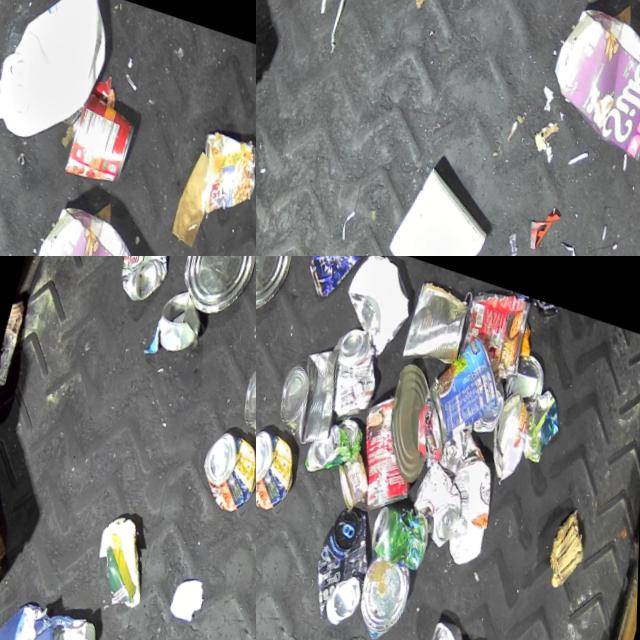can: (416, 311, 512, 448), (345, 378, 433, 513), (305, 494, 384, 625), (271, 326, 353, 446), (374, 349, 448, 477), (455, 270, 536, 371), (63, 80, 141, 184), (400, 267, 474, 367), (319, 313, 388, 419), (187, 114, 256, 216), (405, 446, 472, 543), (352, 545, 418, 640), (195, 419, 256, 513), (483, 374, 537, 475), (171, 256, 256, 320), (366, 488, 435, 564), (304, 400, 367, 478), (256, 417, 303, 511), (153, 278, 209, 353), (112, 256, 180, 307), (330, 439, 377, 506), (301, 256, 368, 302), (503, 336, 550, 397), (256, 256, 301, 318), (0, 294, 28, 392), (235, 327, 256, 448), (472, 363, 509, 429), (419, 607, 480, 640)
milk_jug: (0, 0, 121, 151)
non_white_jug: (541, 0, 640, 161), (21, 185, 174, 256)
